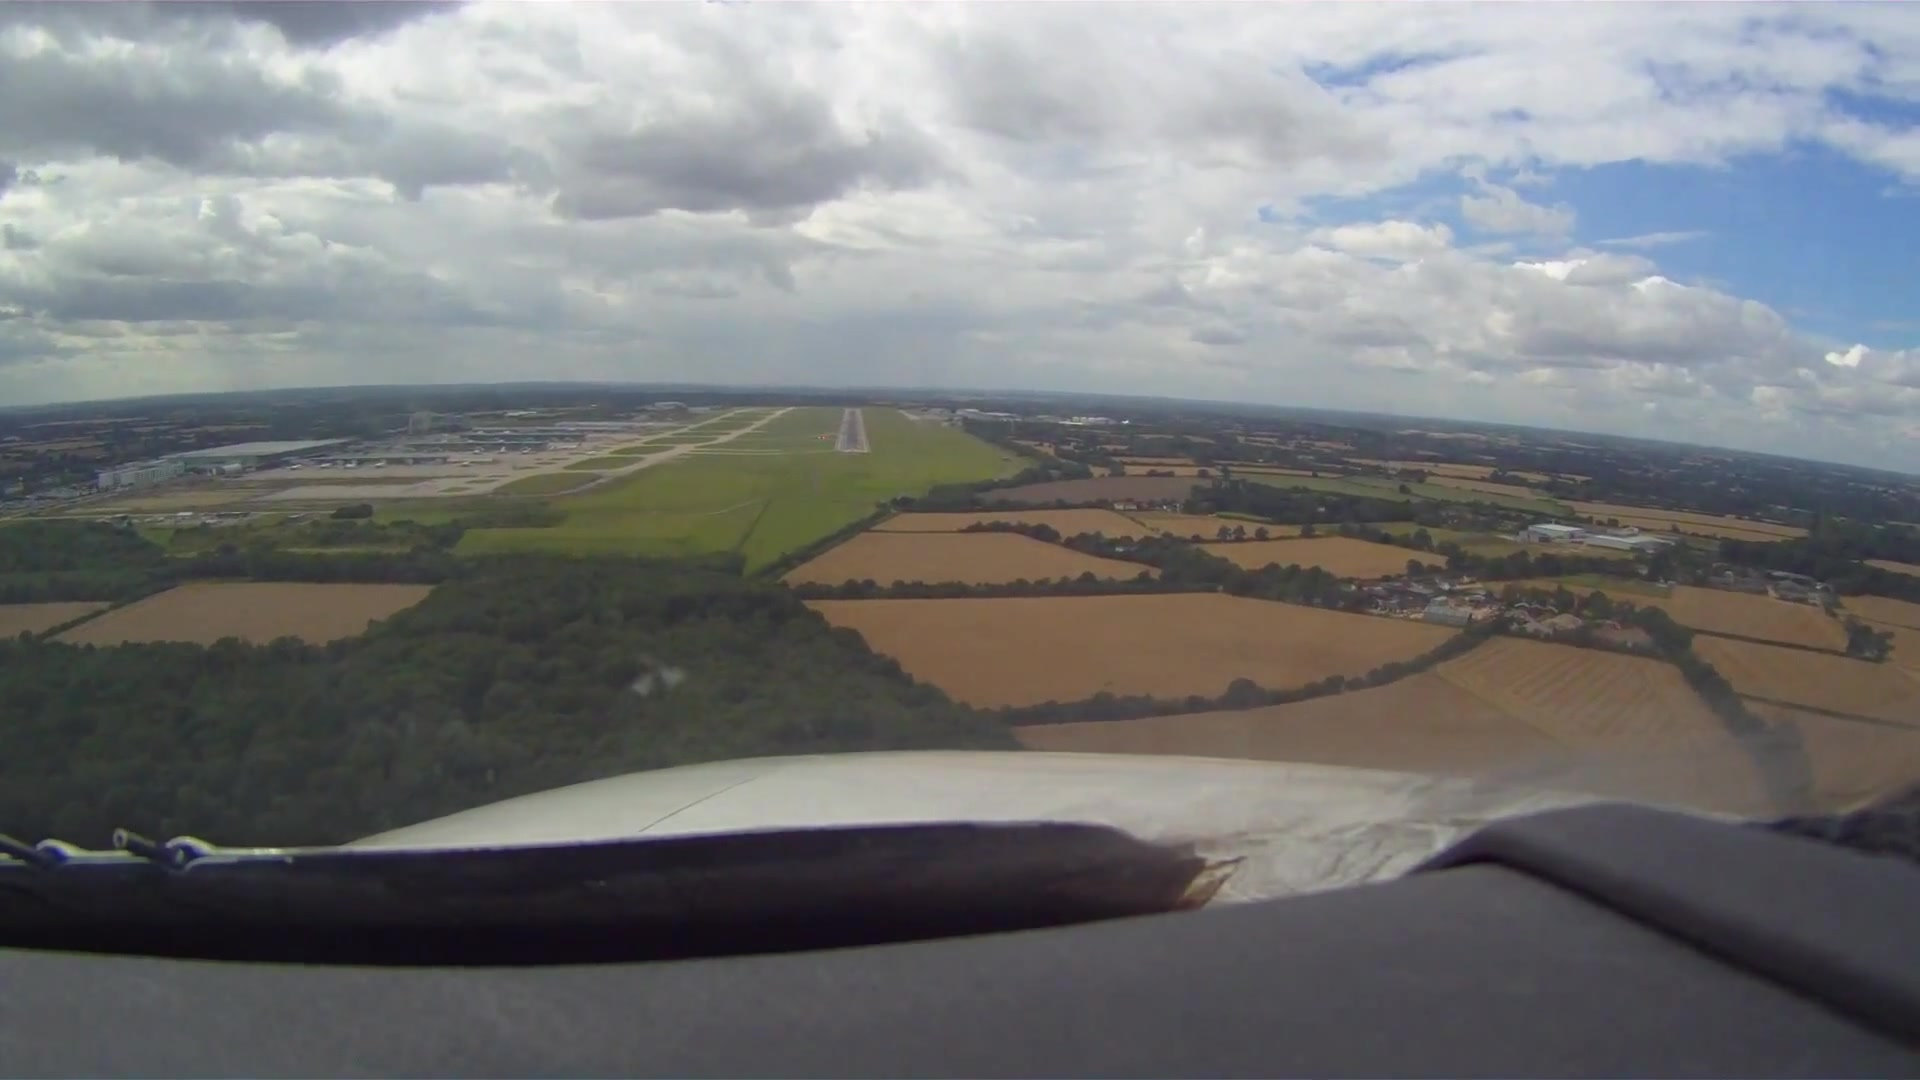runway: (833, 407, 872, 455)
